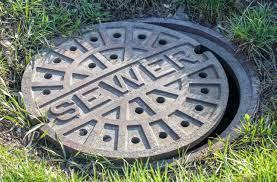open drainage-not overflowing-: (20, 12, 263, 161)
